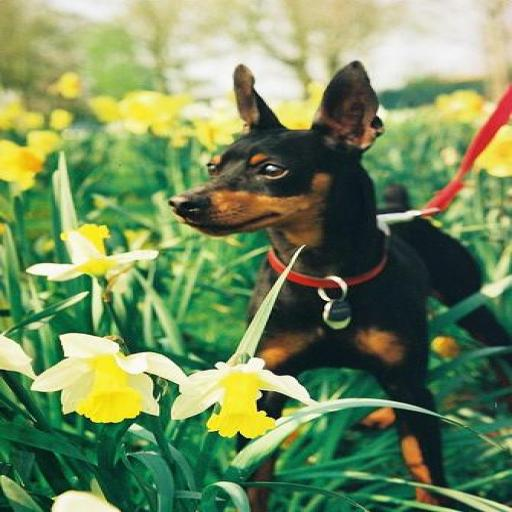dog_face: (179, 61, 416, 234)
